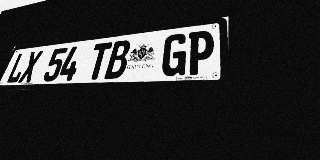4: (57, 45, 84, 81)
5: (42, 47, 68, 82)
B: (104, 40, 132, 79)
G: (160, 33, 189, 76)
L: (5, 52, 30, 83)
P: (186, 29, 214, 75)
T: (85, 42, 113, 80)
X: (18, 50, 43, 83)
